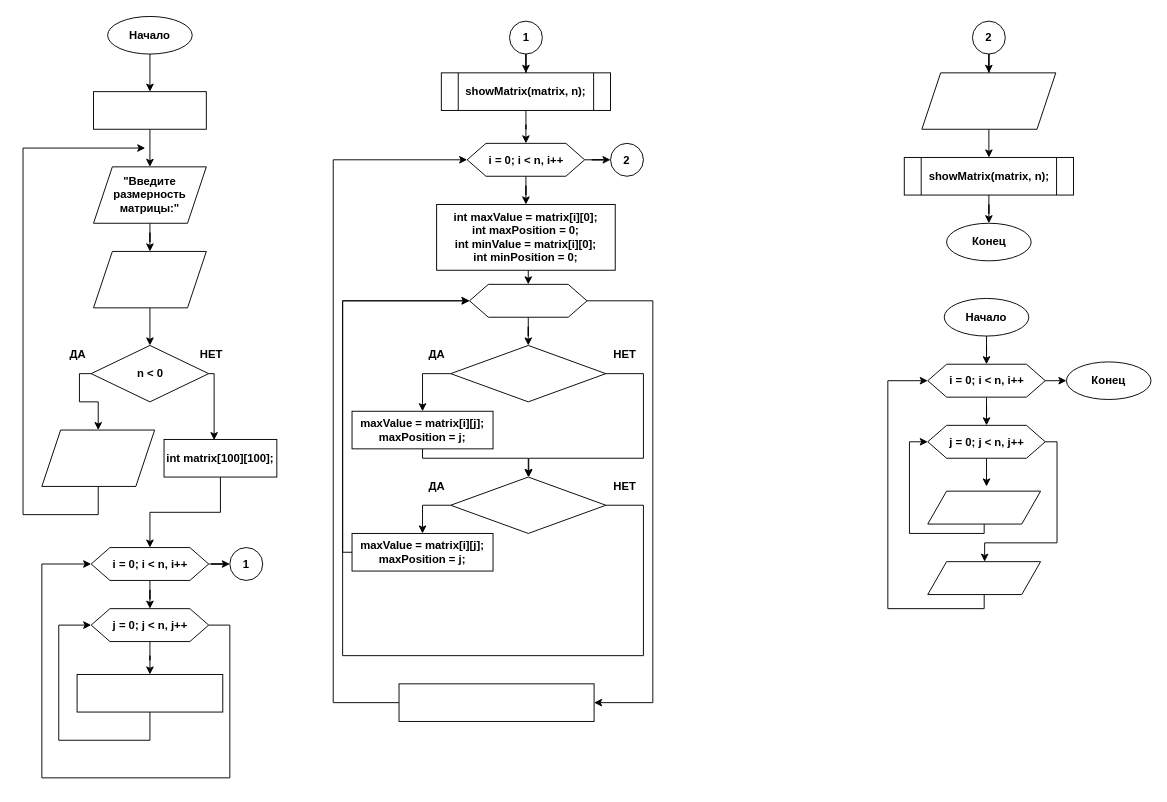
The diagram is 1167 pixels wide and 802 high, and some of its shapes have lost their labels. The centre of each missing label's shape, as x and y in pixels:
"\n": the point at 984,578
"Некорректный ввод. Повторите попытку": the point at 98,457
"Преобразованная матрица:\n": the point at 988,100
int n;: the point at 149,110
j = 1; j < n, j++: the point at 528,300
matr[i][j] <<"\t": the point at 984,507
matrix[i][j] = rand() % 101: the point at 149,693
matrix[i][minPosition] = maxValue; matrix[i][maxPosition] = minValue;: the point at 496,702
maxValue < matrix[i][j]: the point at 528,373
minValue > matrix[i][j]: the point at 528,504
Ввод n: the point at 149,279
